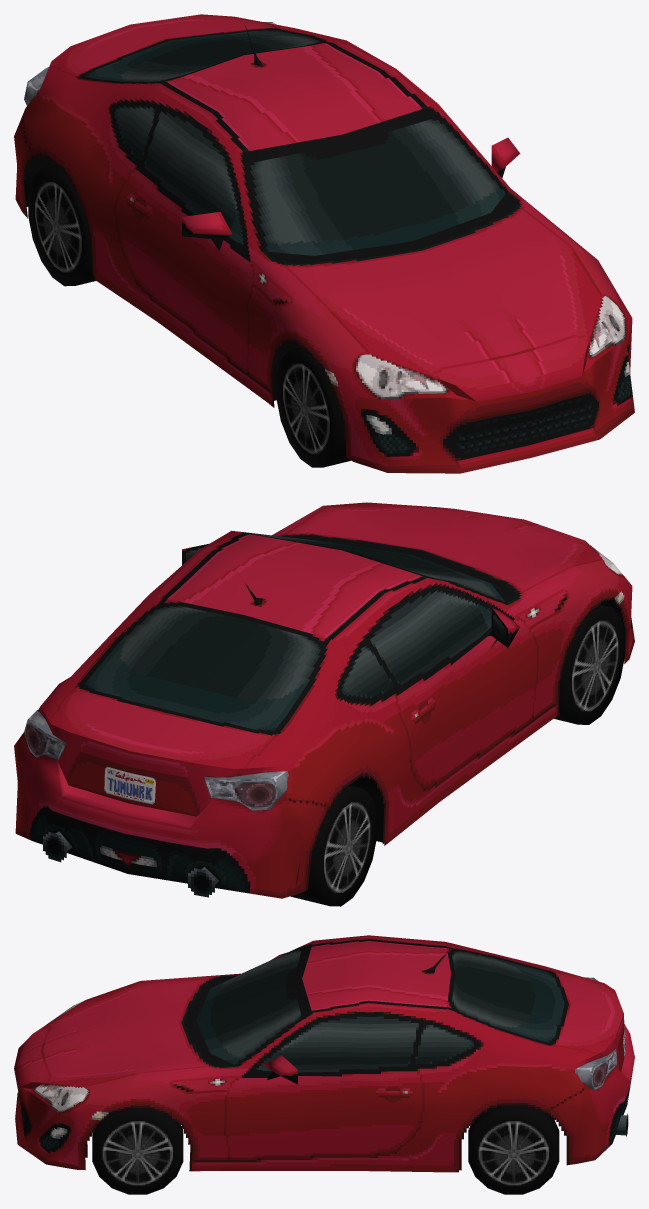
File: attai.glb
The picture shows the model from 3 angles, top to bottom: view 1: azimuth 30°, elevation 25°; view 2: azimuth 150°, elevation 25°; view 3: azimuth 270°, elevation 25°; orthographic projection. The views are drawn at different scales.
Visible parts, largest first — view 1: body, wheel_fr, wheel_rr, accessories, underside; view 2: body, wheel_rr, wheel_fr, tail lights, accessories, exhaust tips, underside; view 3: body, wheel_rl, wheel_fl, tail lights, accessories.
Part boxes in pixels (<box>): body: <box>14,14,634,473</box>; wheel_fr: <box>276,347,350,467</box>; wheel_rr: <box>28,165,95,286</box>; accessories: <box>182,24,520,250</box>; underside: <box>23,155,300,400</box>; body: <box>14,502,634,898</box>; wheel_rr: <box>291,785,377,906</box>; wheel_fr: <box>554,604,625,724</box>; tail lights: <box>24,710,288,810</box>; accessories: <box>104,544,520,804</box>; exhaust tips: <box>43,831,218,897</box>; underside: <box>296,598,625,884</box>; body: <box>14,935,634,1172</box>; wheel_rl: <box>468,1105,559,1194</box>; wheel_fl: <box>92,1107,183,1194</box>; tail lights: <box>575,977,616,1090</box>; accessories: <box>263,948,625,1084</box>.
Bounding box in the file's own units: 1.95 × 1.46 × 4.24.
Materials: 1 (1 with a texture image).
